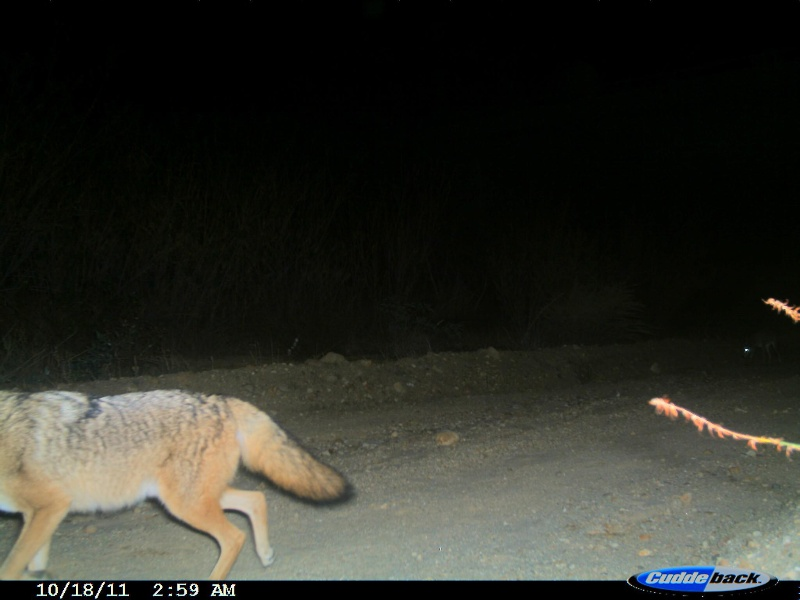coyote: (1, 380, 349, 580)
